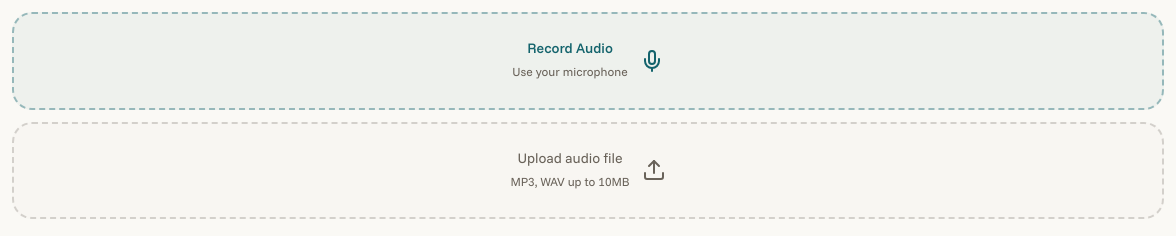
Test: recording instead › adopts a finished recording as the field's audio
Click the text "Record Audio". click: (570, 48)
box: [527,39,613,57]
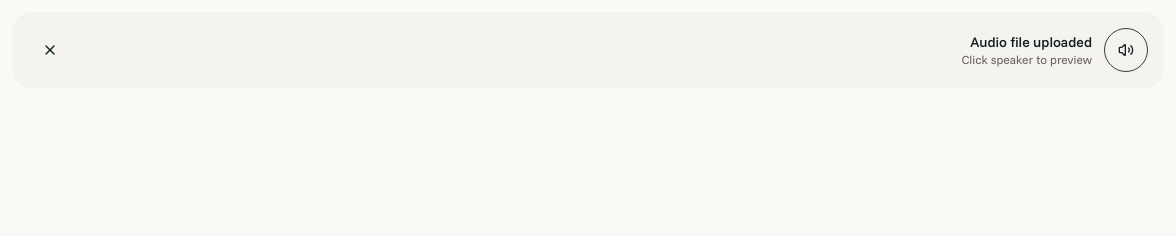
Result: the text "Audio file uploaded" is shown at [970,33,1092,51]
